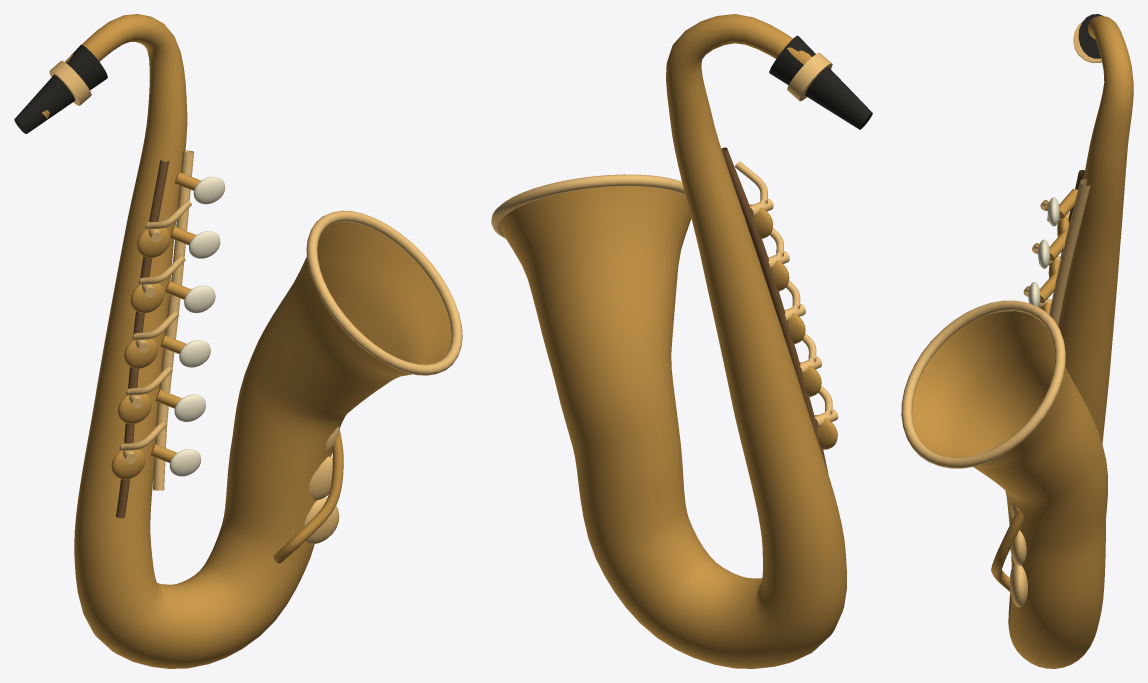
Rendered from sax.glb.
3 views of the same model, side by side, from view 1: azimuth 30°, elevation 25°; view 2: azimuth 150°, elevation 25°; view 3: azimuth 270°, elevation 25° (orthographic). The views are drawn at different scales.
Visible parts, largest first — view 1: Tenor sax; view 2: Tenor sax; view 3: Tenor sax.
Boxes of the visible parts, x1,y1,x2,y2 form: Tenor sax: (14, 14, 462, 668); Tenor sax: (491, 14, 872, 668); Tenor sax: (901, 14, 1133, 668).
Size of the model in its own units: 1.71 by 2.66 by 0.9099.
